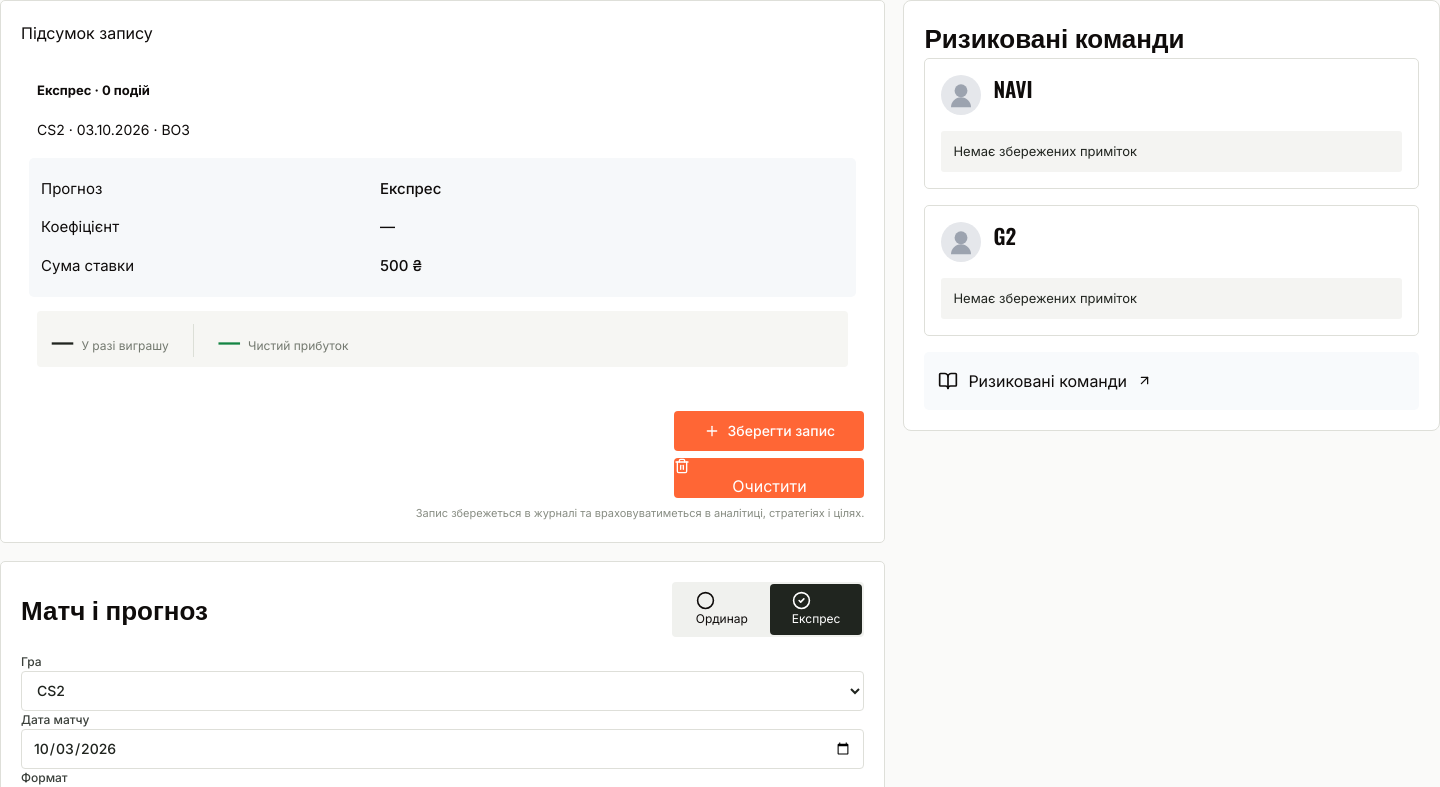
Test case: Single-page record entry › blocks empty express
The width and height of the screenshot is (1440, 787).
Click the button "Зберегти запис" at (769, 431), box [674,411,864,451]
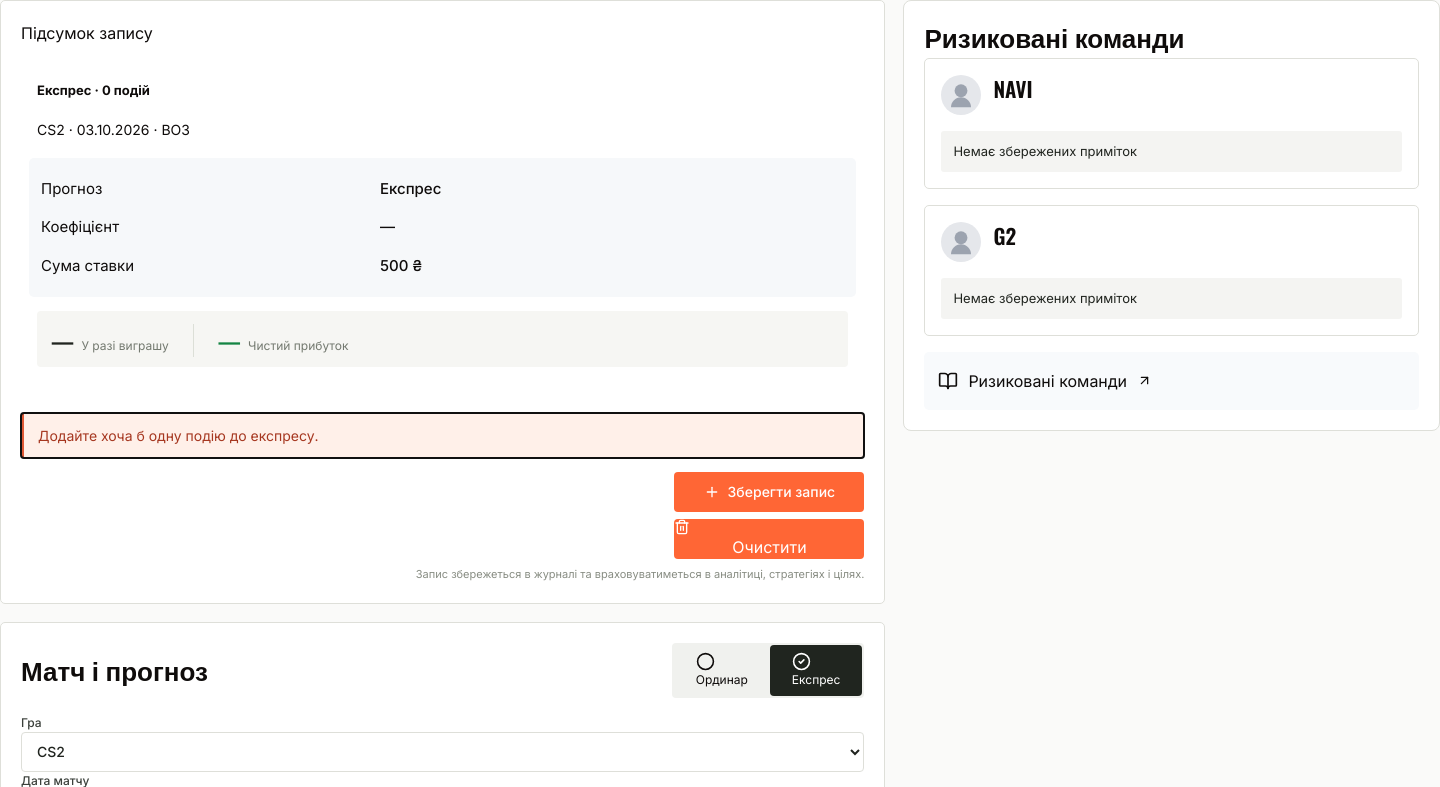
Expected: the message shows "хоча б одну", [38,427,319,444]
